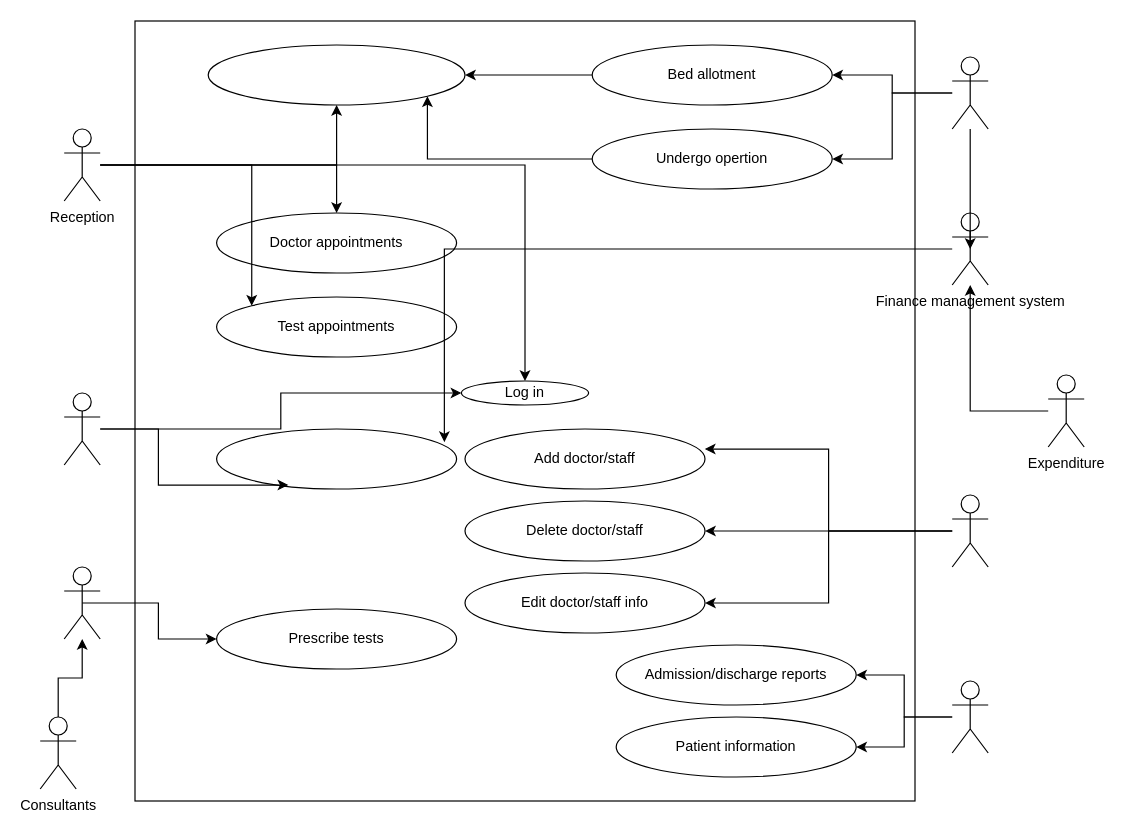
The diagram is 1126 pixels wide and 835 high, and some of its shapes have lost their labels. Here are the shapes that lost their labels. From the top down, the box of each, then its label:
(207, 44, 465, 105): Admission
(951, 56, 988, 129): Income
(63, 392, 100, 465): Staff/Nurses
(215, 428, 457, 489): Draw salary
(951, 494, 988, 567): Records system
(63, 566, 100, 639): Doctors
(951, 680, 988, 753): Information system
